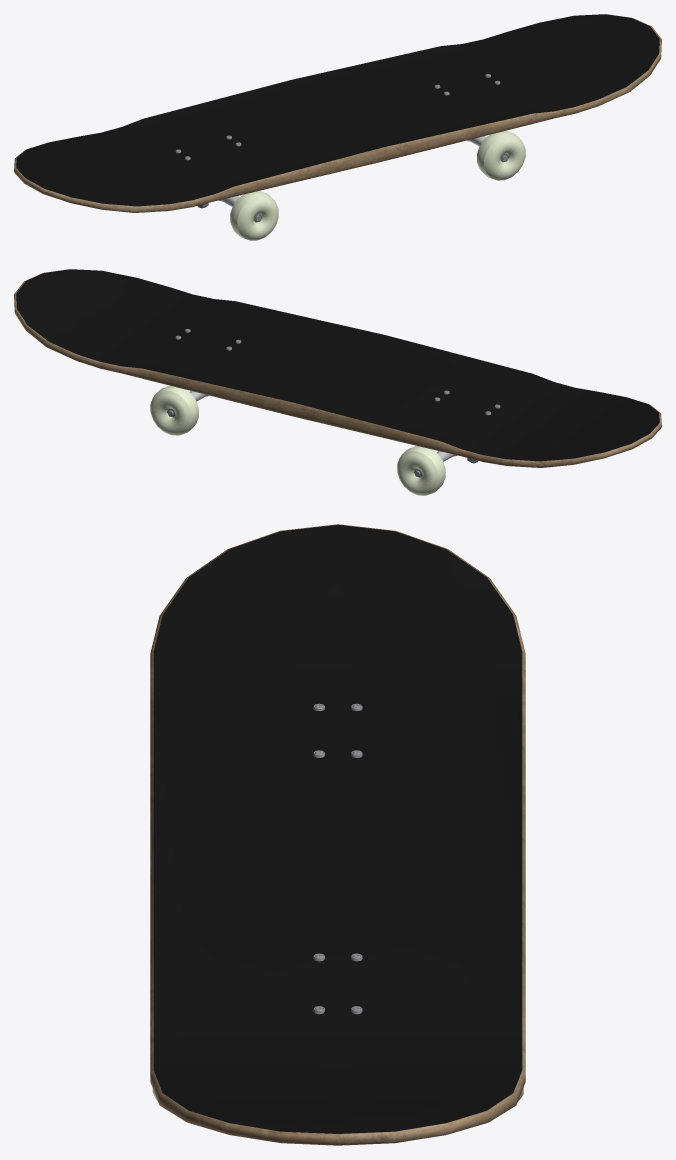
File: skateboard_0ec178da.glb
3 views of the same model, one above another, from view 1: azimuth 30°, elevation 25°; view 2: azimuth 150°, elevation 25°; view 3: azimuth 270°, elevation 25° (orthographic). The views are drawn at different scales.
Visible parts, largest first — view 1: Object_4, Object_3, Object_11, Object_10; view 2: Object_4, Object_3, Object_11, Object_10; view 3: Object_4, Object_3.
Boxes of the visible parts, bbox=[...] form: Object_4: bbox=[16, 14, 659, 206]; Object_3: bbox=[14, 14, 661, 212]; Object_11: bbox=[237, 135, 525, 240]; Object_10: bbox=[230, 130, 522, 240]; Object_4: bbox=[16, 269, 659, 461]; Object_3: bbox=[14, 269, 661, 467]; Object_11: bbox=[150, 390, 438, 495]; Object_10: bbox=[153, 385, 445, 495]; Object_4: bbox=[153, 525, 522, 1133]; Object_3: bbox=[150, 524, 525, 1145].
Bounding box in the file's own units: 48.69 × 5.71 × 12.6.
10 materials, 10 textured.
